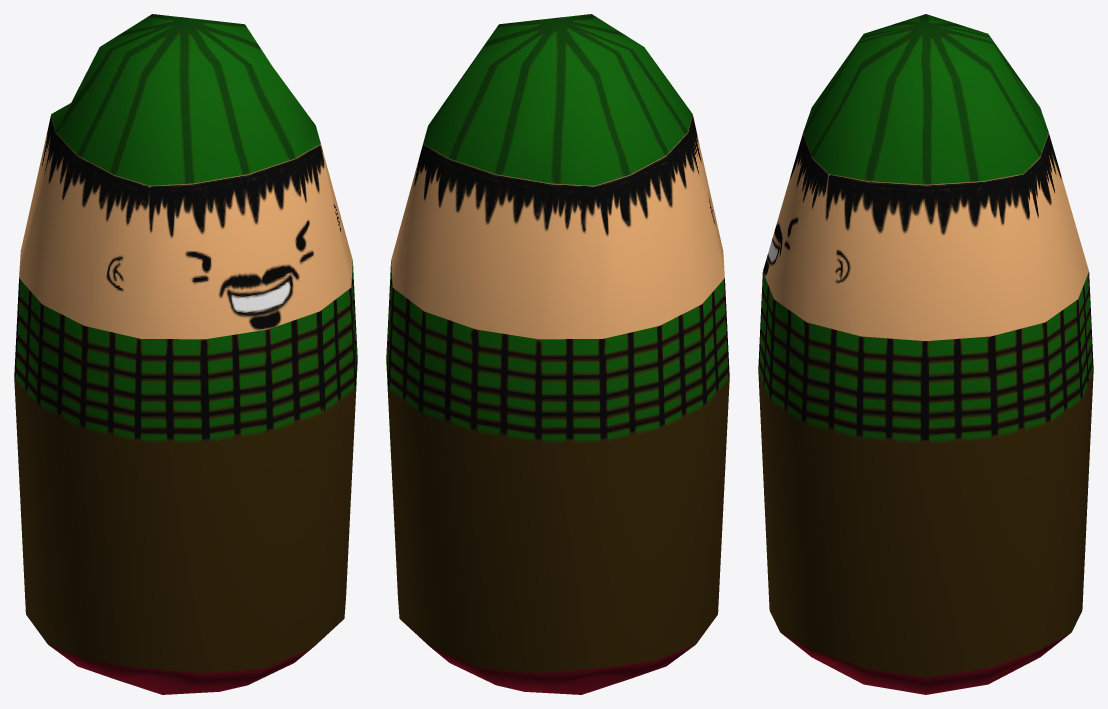
Rendered from GuyVillain2 (3).fbx.
The picture shows the model from 3 angles, left to right: view 1: azimuth 30°, elevation 25°; view 2: azimuth 150°, elevation 25°; view 3: azimuth 270°, elevation 25°; orthographic projection.
Visible parts, largest first — view 1: pCube1; view 2: pCube1; view 3: pCube1.
Part boxes in pixels (x1=…): pCube1: x1=14, y1=14, x2=357, y2=694; pCube1: x1=386, y1=14, x2=729, y2=694; pCube1: x1=758, y1=14, x2=1093, y2=694.
Size of the model in its own units: 2.34 by 4.95 by 2.31.
1 material, 1 textured.
